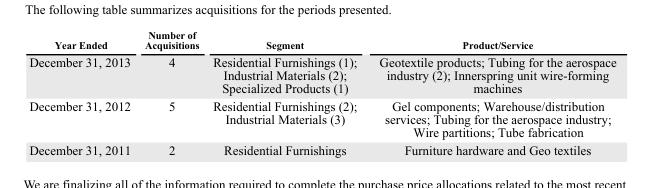table: (28, 28, 615, 156)
table column: (367, 28, 615, 156), (205, 28, 367, 156), (28, 28, 137, 156), (137, 28, 205, 156)
table column header: (28, 28, 615, 52)
table row: (28, 52, 615, 96), (28, 96, 615, 140), (28, 28, 615, 52), (28, 140, 615, 156)
